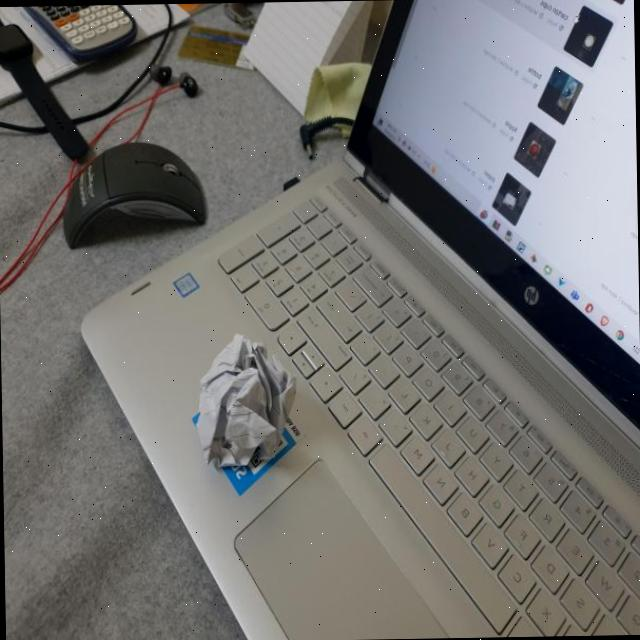trash: (187, 324, 300, 482)
